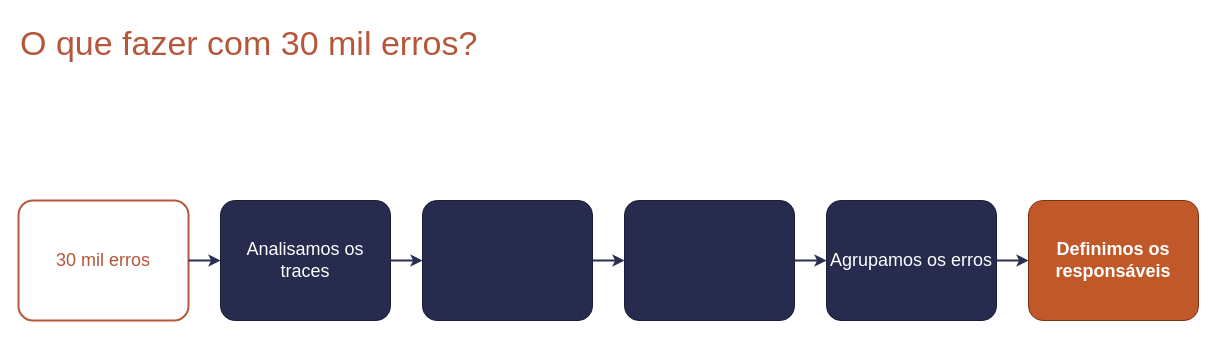
This 1216x338 diagram has some shape labels left out. The centre of each missing label's shape, as x and y in pixels:
Criamos categorias: pixel 709 260
Encontramos padrões: pixel 507 260
